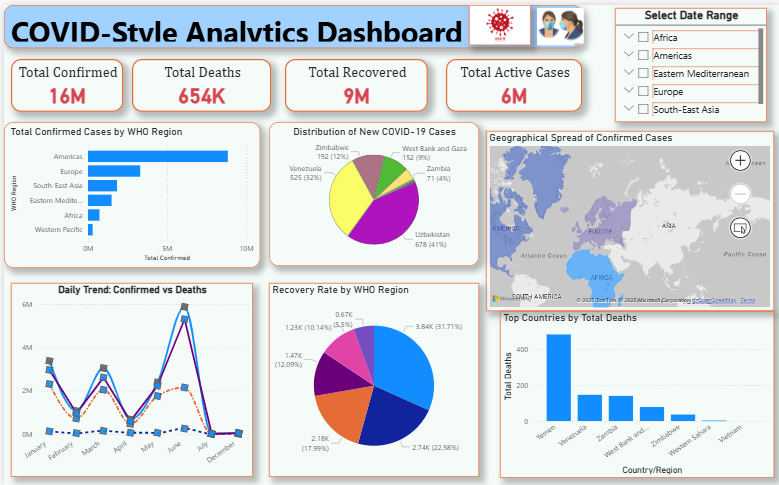

Layout of this report page (visuals, bound fields, positions):
{"tool":"powerbi","page":{"name":"Page 1","canvas":[1297,801],"ordinal":0},"visuals":[{"type":"card","title":"Total Confirmed","fields":{"Values":["country_wise_latest.Total Confirmed"]},"box":[11.7,90,186.7,88.3],"z":0},{"type":"card","title":"Total Active Cases","fields":{"Values":["country_wise_latest.Total Active"]},"box":[736.7,90,226.7,88.3],"z":1000},{"type":"card","title":"Total Deaths","fields":{"Values":["country_wise_latest.Total Deaths"]},"box":[213.3,90,231.7,88.3],"z":2000},{"type":"card","title":"Total Recovered","fields":{"Values":["country_wise_latest.Total Recovered"]},"box":[468.3,90,238.3,88.3],"z":3000},{"type":"clusteredBarChart","title":"Total Confirmed Cases by WHO Region","fields":{"Category":["country_wise_latest.WHO Region"],"Y":["country_wise_latest.Total Confirmed"]},"box":[0,195,426.7,243.3],"z":4000},{"type":"filledMap","title":"Geographical Spread of Confirmed Cases","fields":{"Series":["country_wise_latest.Country/Region"],"Category":["country_wise_latest.WHO Region"],"Y":["country_wise_latest.Total Confirmed"]},"box":[803.3,210,480,300],"z":5000},{"type":"lineChart","title":"Daily Trend: Confirmed vs Deaths","fields":{"Y":["Sum(country_wise_latest.Confirmed)","Sum(country_wise_latest.Deaths)","Sum(country_wise_latest.Recovered)","Sum(country_wise_latest.Confirmed last week)"],"Category":["country_wise_latest.COVIDData.Variation.Date Hierarchy.Month"]},"box":[11.7,463.3,403.3,323.3],"z":6000},{"type":"columnChart","title":"Top Countries by Total Deaths","fields":{"Category":["country_wise_latest.Country/Region"],"Y":["country_wise_latest.Total Deaths"]},"box":[826.7,510,456.7,278.3],"z":7000},{"type":"pieChart","title":"Recovery Rate by WHO Region","fields":{"Category":["country_wise_latest.WHO Region"],"Y":["Sum(country_wise_latest.Recovered / 100 Cases)"]},"box":[441.7,463.3,350,323.3],"z":8000},{"type":"slicer","title":"Select Date Range","fields":{"Values":["country_wise_latest.WHO Region","country_wise_latest.Country/Region"]},"box":[1018.3,5,253.3,190],"z":9000},{"type":"pieChart","title":"Distribution of New COVID-19 Cases","fields":{"Category":["country_wise_latest.Country/Region"],"Y":["country_wise_latest.Total New Cases"]},"box":[441.7,195,350,240],"z":10000},{"type":"textbox","box":[0,0,963.3,71.7],"z":11000},{"type":"image","box":[775,0,103.3,66.7],"z":12000},{"type":"image","box":[878.3,0,98.3,71.7],"z":13000}]}

Visuals, with their boxes in screenshot pixels (x1, y1, x2, y2), scaled from the page's 1297x801 canvas onto the 779x485 screenshot:
"Total Confirmed" card: <region>7, 54, 119, 108</region>
"Total Active Cases" card: <region>442, 54, 579, 108</region>
"Total Deaths" card: <region>128, 54, 267, 108</region>
"Total Recovered" card: <region>281, 54, 424, 108</region>
"Total Confirmed Cases by WHO Region" clusteredBarChart: <region>0, 118, 256, 265</region>
"Geographical Spread of Confirmed Cases" filledMap: <region>482, 127, 771, 309</region>
"Daily Trend: Confirmed vs Deaths" lineChart: <region>7, 281, 249, 476</region>
"Top Countries by Total Deaths" columnChart: <region>497, 309, 771, 477</region>
"Recovery Rate by WHO Region" pieChart: <region>265, 281, 476, 476</region>
"Select Date Range" slicer: <region>612, 3, 764, 118</region>
"Distribution of New COVID-19 Cases" pieChart: <region>265, 118, 476, 263</region>
textbox: <region>0, 0, 579, 43</region>
image: <region>465, 0, 528, 40</region>
image: <region>528, 0, 587, 43</region>
